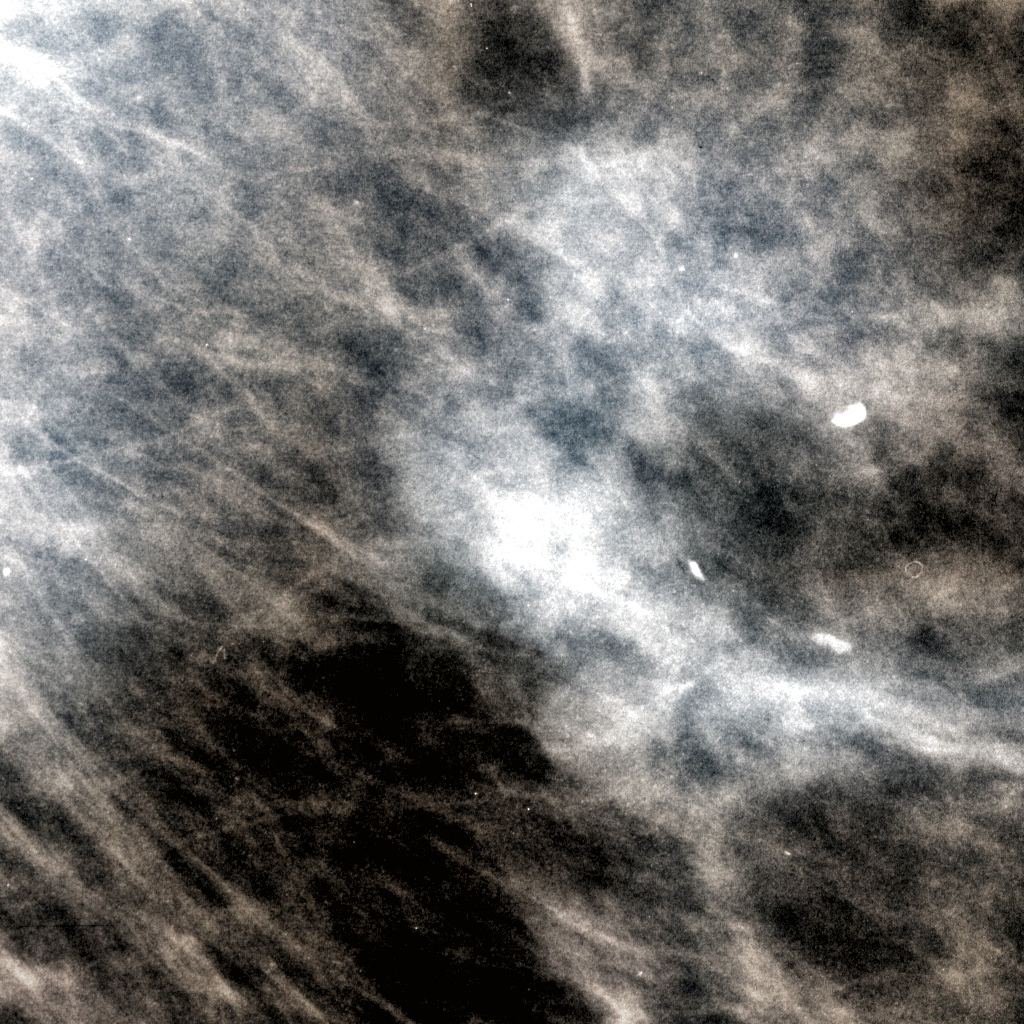tumor: (328, 358, 696, 666)
